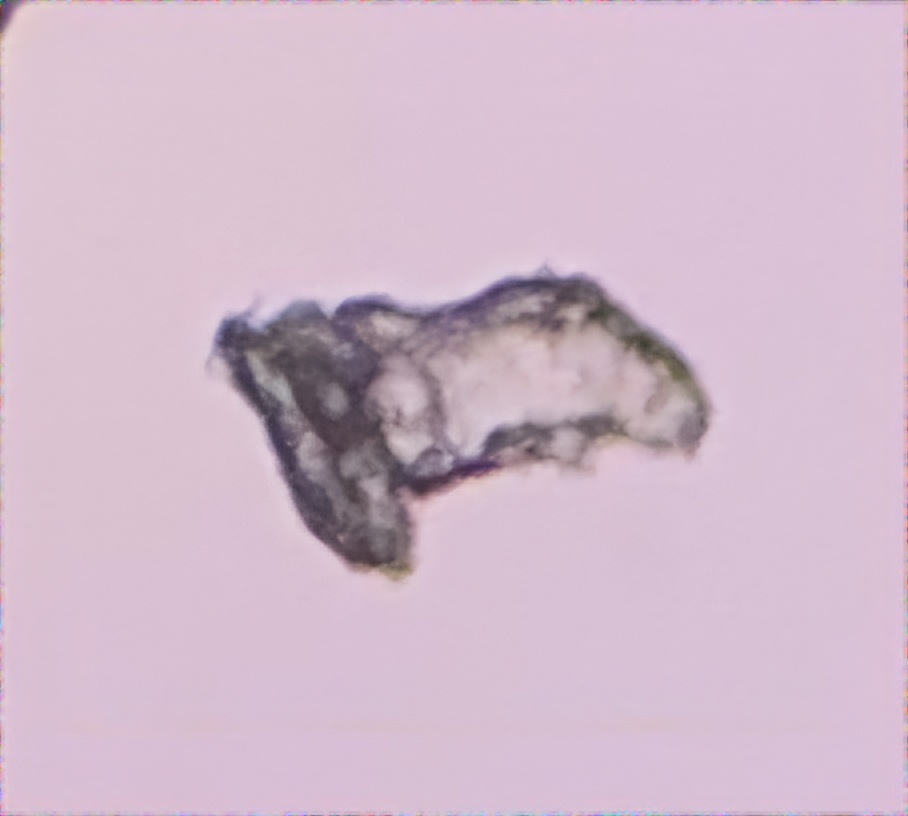microplastic: (190, 261, 729, 592)
